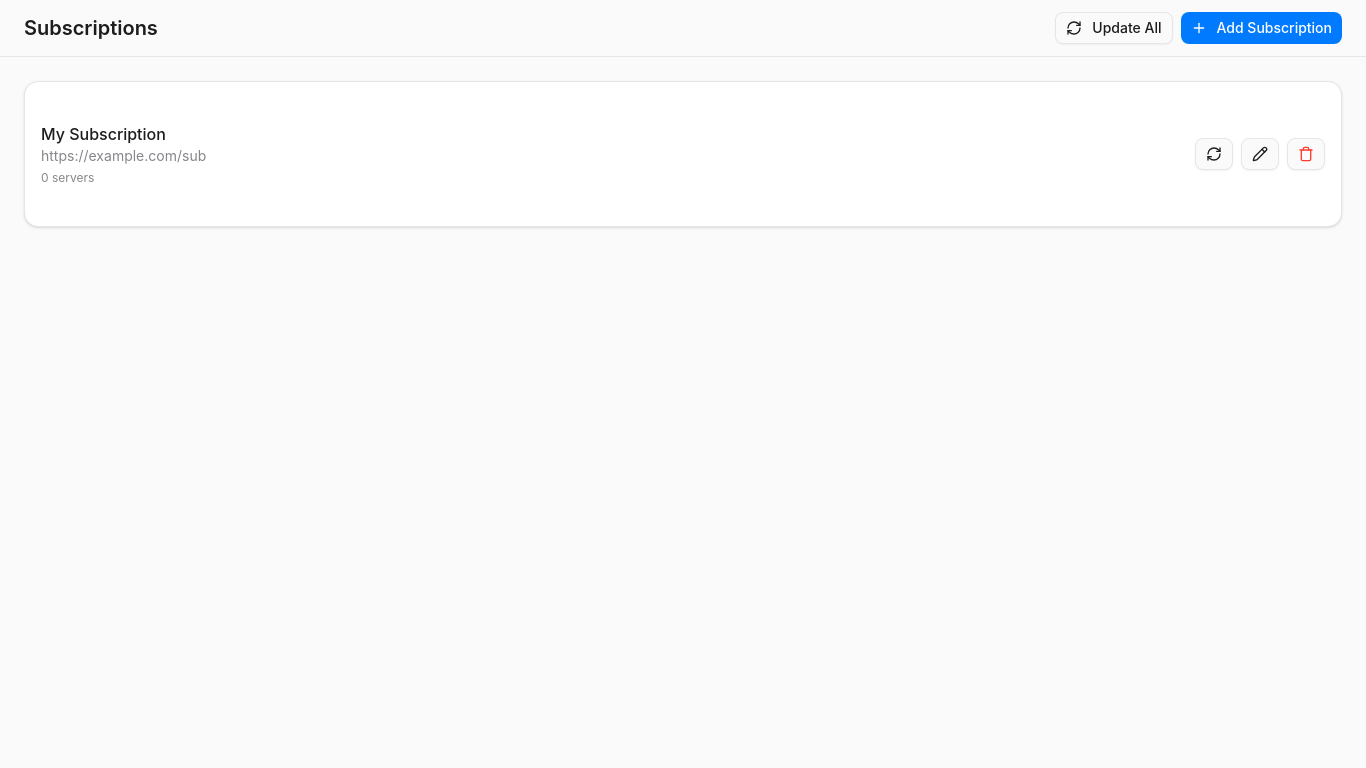
Test case: SubscriptionsPage › opens add subscription dialog
Step 1. Click the button "Add Subscription" → (1261, 28), box [1180, 12, 1342, 44]
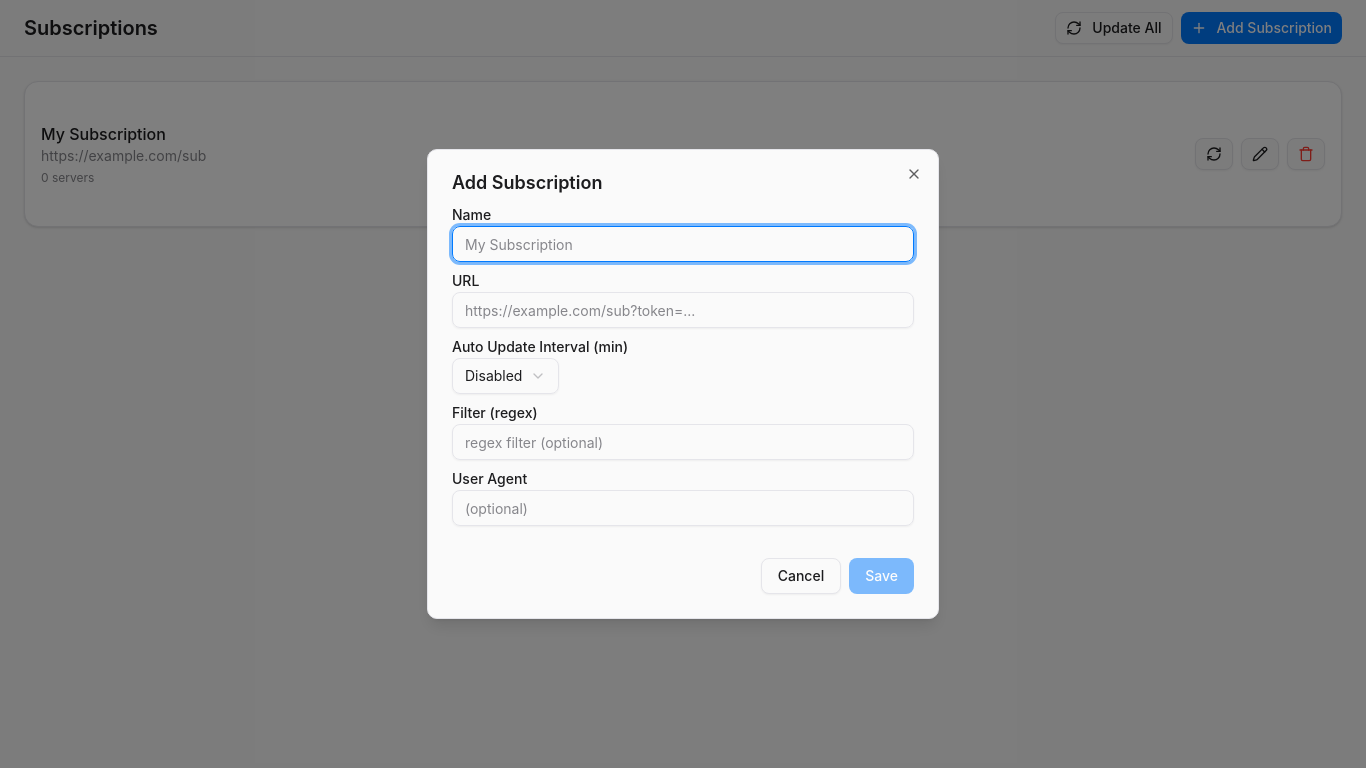
expect the dialog is shown: met, box [427, 149, 939, 619]
